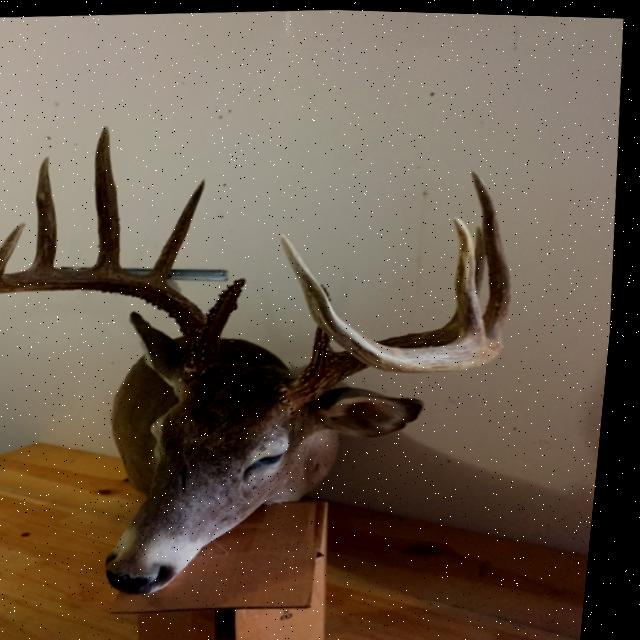L-F: (230, 290, 463, 499)
L-G1: (325, 276, 416, 309), (240, 444, 312, 479)
L-G2: (191, 314, 331, 353)
L-G3: (116, 369, 312, 398)
L-G4: (152, 420, 307, 440)
R-G3: (191, 76, 423, 117)
R-G4: (253, 92, 425, 126)
